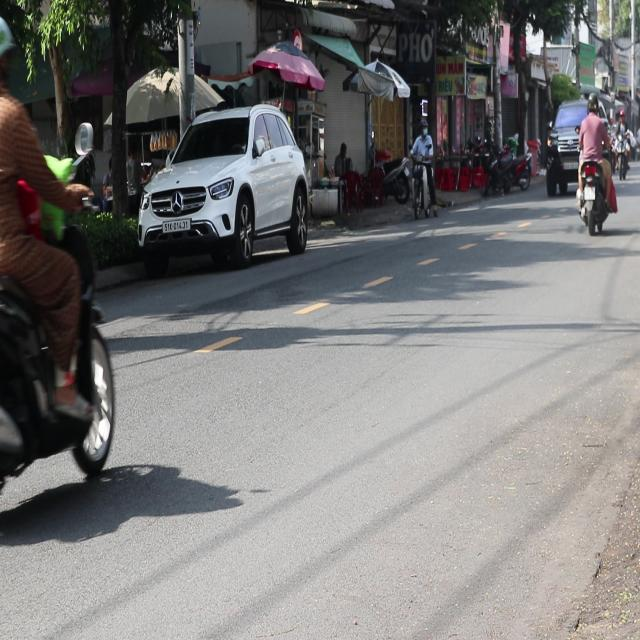helmet: (0, 11, 15, 95), (586, 91, 598, 114)
licenseplate: (0, 7, 117, 544)
